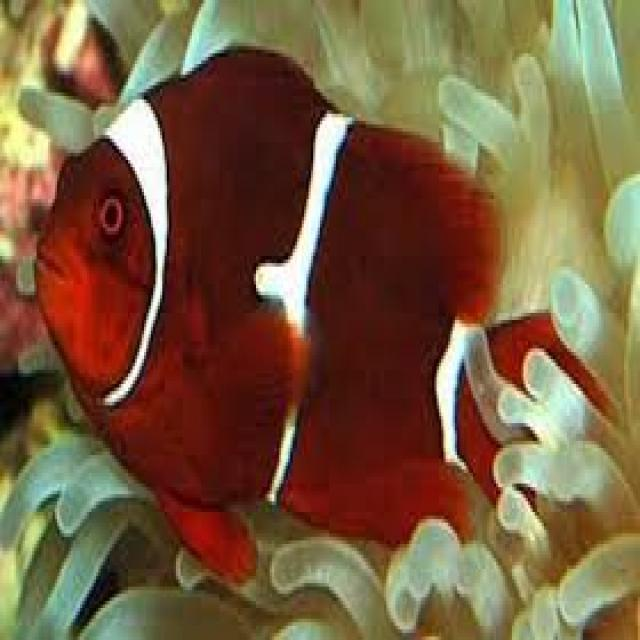ClownFish: (36, 47, 561, 586)
